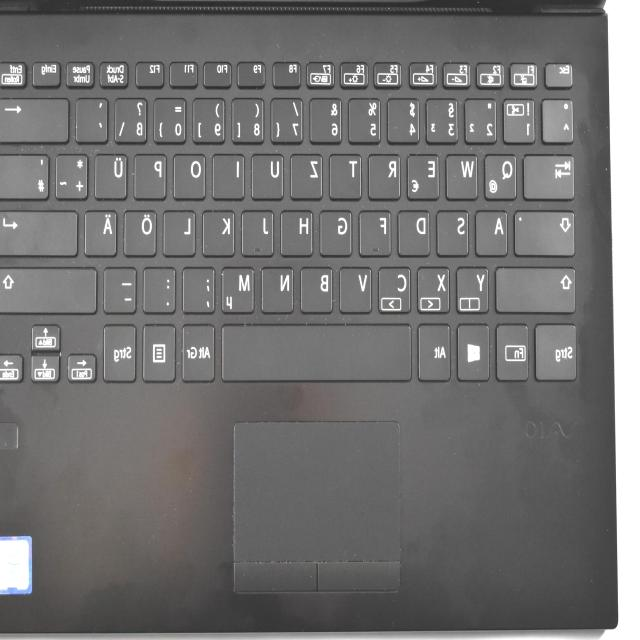0: (155, 94, 189, 142)
1: (504, 95, 538, 143)
2: (466, 94, 500, 141)
3: (428, 94, 462, 142)
4: (389, 94, 423, 142)
5: (350, 95, 384, 141)
6: (311, 94, 345, 141)
7: (272, 94, 306, 142)
8: (233, 94, 267, 142)
9: (194, 94, 228, 142)
a: (477, 207, 511, 255)
accent: (78, 94, 111, 141)
ae: (86, 207, 120, 255)
alt-left: (420, 320, 454, 380)
altgr-right: (184, 320, 218, 380)
b: (303, 262, 337, 312)
c: (380, 263, 414, 312)
caret: (545, 95, 577, 141)
comma: (185, 263, 219, 312)
d: (400, 206, 434, 255)
del: (0, 94, 71, 141)
e: (409, 150, 443, 198)
enter: (0, 206, 81, 254)
f: (361, 206, 395, 254)
g: (323, 205, 356, 254)
h: (283, 206, 317, 254)
hash: (0, 150, 52, 198)
i: (215, 150, 248, 198)
j: (245, 206, 277, 254)
k: (204, 206, 238, 254)
keyboard: (0, 11, 598, 394)
l: (165, 206, 199, 254)
m: (224, 262, 259, 312)
minus: (106, 263, 140, 311)
n: (264, 263, 298, 311)
o: (176, 150, 210, 198)
oe: (126, 206, 160, 255)
p: (136, 150, 170, 198)
plus: (57, 149, 91, 198)
point: (145, 263, 179, 311)
q: (486, 149, 520, 199)
r: (370, 150, 404, 198)
s: (439, 207, 473, 255)
shift-left: (497, 261, 579, 311)
shift-lock: (516, 206, 579, 254)
shift-right: (1, 262, 101, 312)
space: (224, 319, 414, 381)
ss: (117, 94, 150, 142)
strg-left: (536, 319, 582, 379)
strg-right: (105, 321, 140, 381)
t: (331, 150, 365, 198)
tab: (526, 150, 578, 198)
u: (254, 149, 288, 198)
ue: (97, 149, 131, 198)
v: (342, 263, 376, 311)
w: (448, 150, 482, 198)
x: (419, 263, 453, 312)
y: (457, 263, 491, 311)
z: (293, 150, 326, 198)
